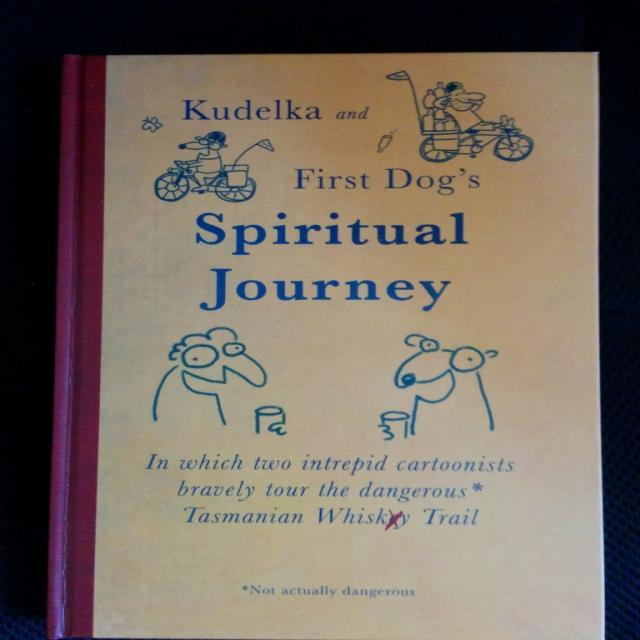book: (30, 54, 606, 640)
